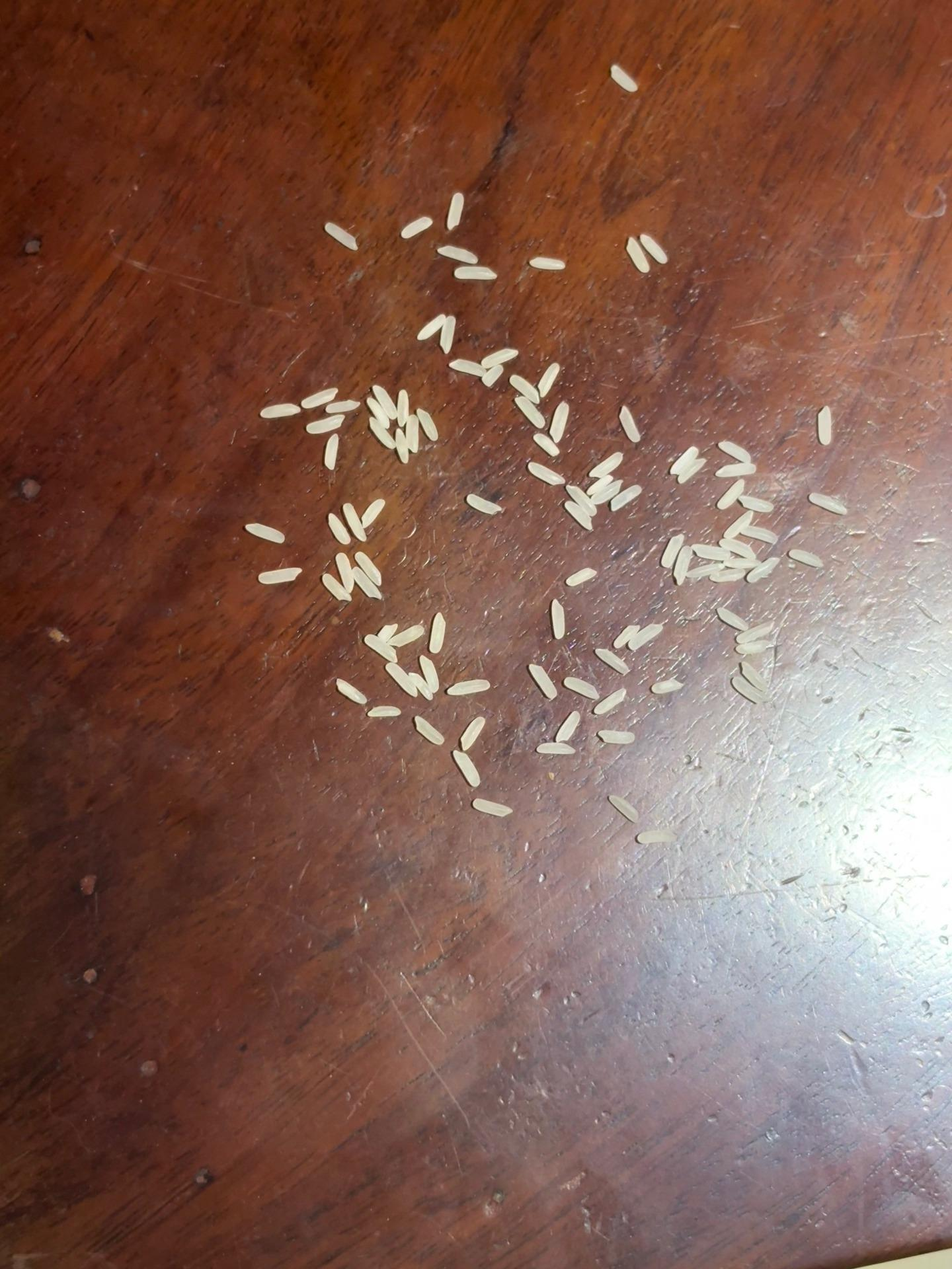Rice-th-y-nh: (452, 750, 481, 787), (732, 676, 769, 705), (386, 663, 417, 697), (529, 664, 557, 699), (342, 503, 367, 541), (353, 568, 382, 600), (608, 794, 640, 823), (515, 397, 545, 427), (509, 375, 540, 404), (567, 485, 596, 516), (365, 635, 398, 662), (325, 223, 358, 250), (595, 648, 629, 674), (356, 552, 382, 586), (460, 716, 485, 751), (809, 493, 848, 515), (629, 624, 663, 649), (373, 385, 398, 419), (415, 716, 444, 745), (626, 238, 650, 273), (747, 558, 780, 583), (594, 689, 627, 714), (589, 453, 623, 477), (670, 446, 698, 475), (368, 418, 395, 448), (723, 512, 753, 539), (640, 234, 667, 264), (611, 485, 642, 511), (438, 244, 478, 264), (610, 65, 638, 93), (322, 574, 351, 601), (246, 523, 285, 543), (550, 403, 570, 442), (637, 827, 676, 847), (258, 567, 301, 585), (564, 677, 599, 699), (529, 463, 564, 485), (556, 711, 580, 743), (736, 623, 774, 643), (661, 534, 684, 567), (717, 481, 744, 509), (565, 502, 592, 530), (720, 538, 756, 559), (741, 663, 768, 691), (417, 315, 446, 341), (337, 679, 367, 704), (538, 363, 560, 397), (473, 798, 512, 817), (619, 407, 640, 442), (302, 388, 337, 409), (416, 408, 438, 441), (719, 441, 752, 463), (678, 458, 707, 483), (408, 672, 433, 701), (592, 481, 622, 505), (674, 547, 693, 584), (307, 415, 344, 434), (420, 656, 439, 693), (389, 626, 424, 646), (717, 608, 748, 630), (447, 679, 489, 695), (450, 359, 487, 377), (336, 554, 354, 591), (693, 544, 732, 561), (328, 514, 350, 544), (401, 217, 432, 238), (741, 526, 777, 544), (481, 349, 517, 367), (467, 495, 501, 514), (550, 600, 567, 638), (362, 499, 385, 527), (716, 462, 756, 478), (687, 563, 724, 580), (430, 614, 446, 653), (447, 193, 464, 229), (789, 549, 823, 567), (368, 398, 389, 427), (537, 740, 575, 756), (440, 316, 456, 353), (817, 407, 833, 444), (455, 266, 497, 280), (740, 496, 774, 513), (614, 625, 639, 648), (260, 404, 300, 418), (534, 434, 559, 456), (394, 429, 410, 463), (566, 568, 596, 586), (599, 730, 635, 745), (395, 390, 410, 425), (587, 475, 613, 495), (405, 415, 419, 452), (324, 435, 339, 469), (710, 569, 745, 582), (530, 257, 565, 270), (652, 679, 682, 694), (326, 400, 360, 413), (483, 365, 503, 386), (724, 557, 759, 569), (736, 642, 768, 654), (368, 706, 400, 717), (377, 625, 397, 641)
